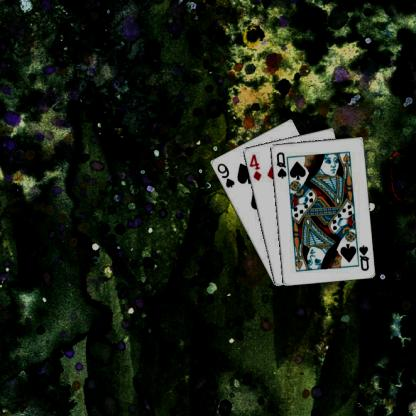4D: (247, 152, 262, 182)
9S: (214, 160, 236, 189)
QS: (274, 150, 288, 180), (356, 242, 370, 272)
